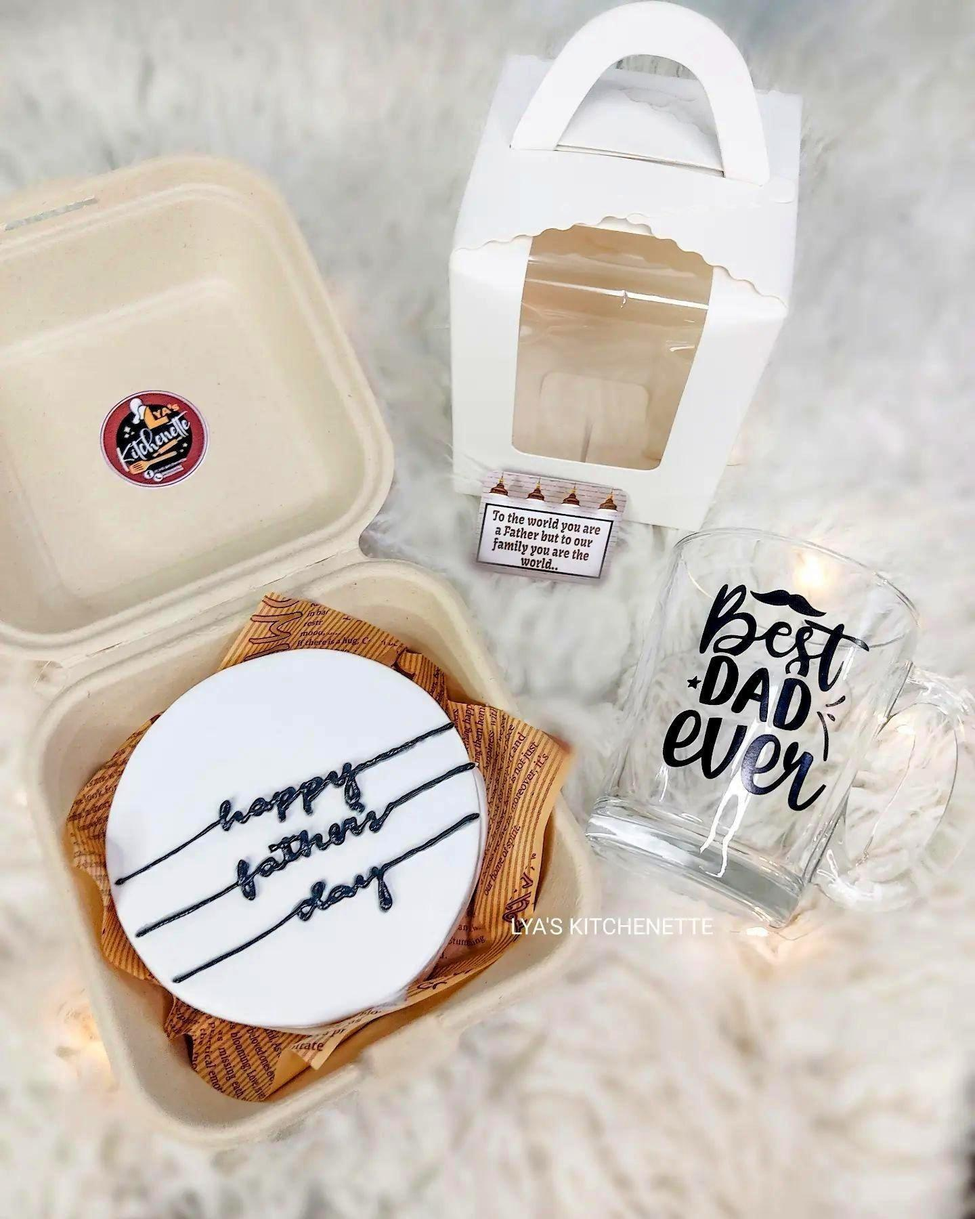glass-mug: (588, 515, 975, 915)
